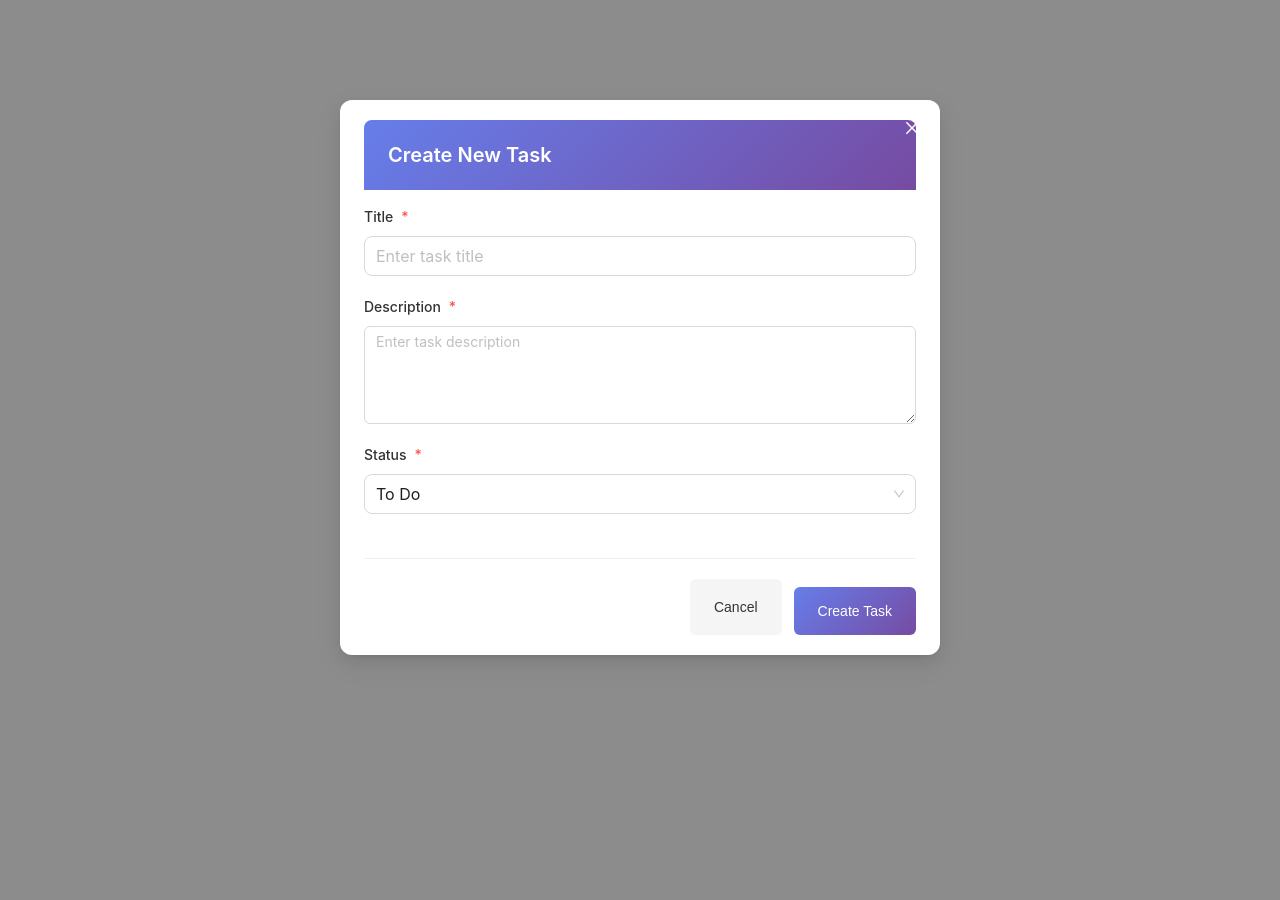
it: TaskModal › should show validation error for short title
Type "Ab" into the field labelled "Title *". click: (640, 256)
box: [364,236,916,276]
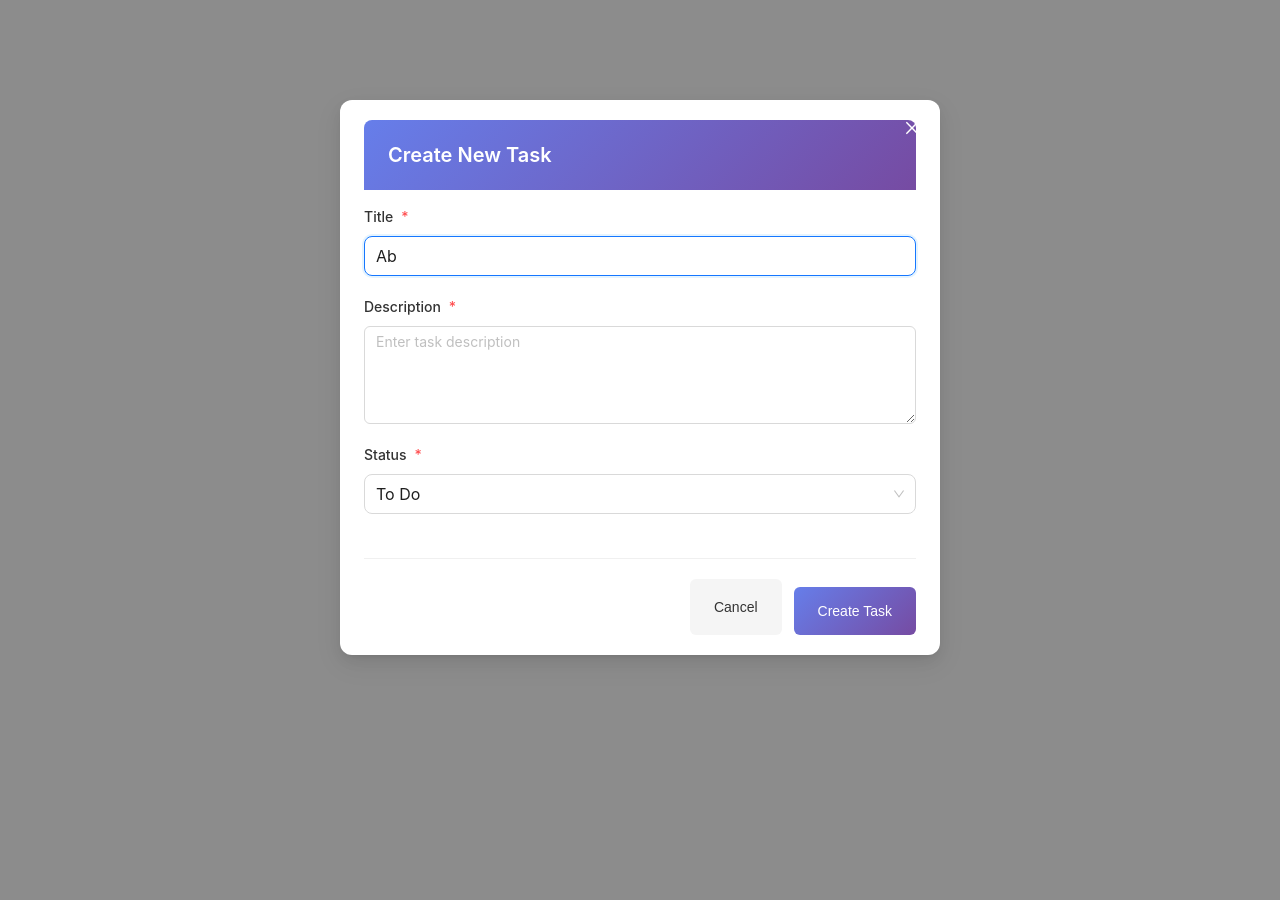
Click the button "Create Task". click: (855, 611)
box: [794,587,916,635]
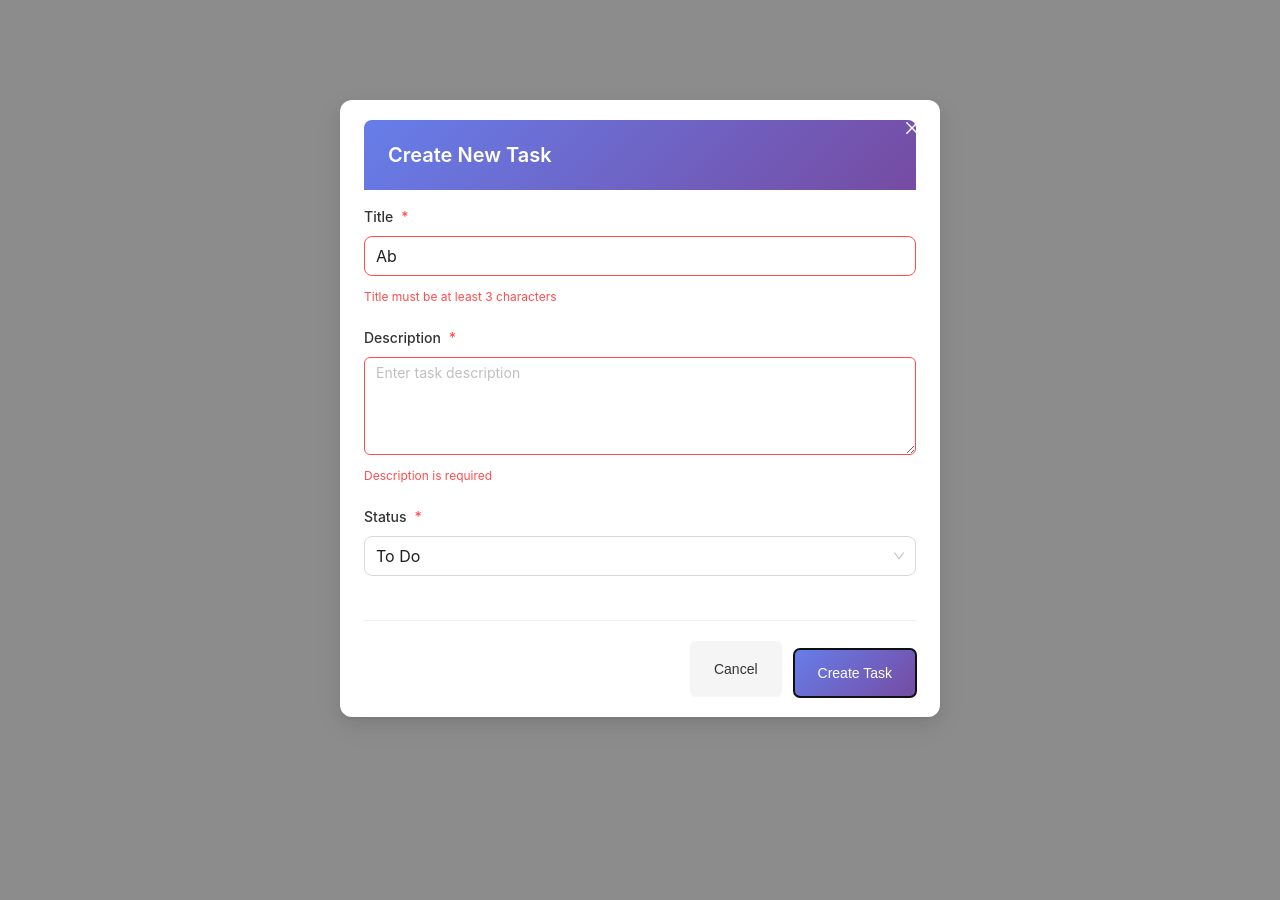
Now the text "Title must be at least 3 characters" is shown, box [364,289,556,304]
